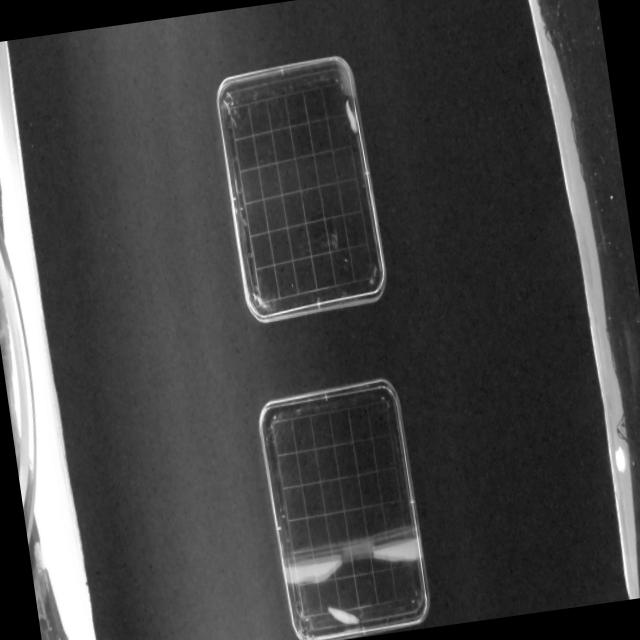larva: (327, 602, 361, 630), (340, 97, 360, 137)
